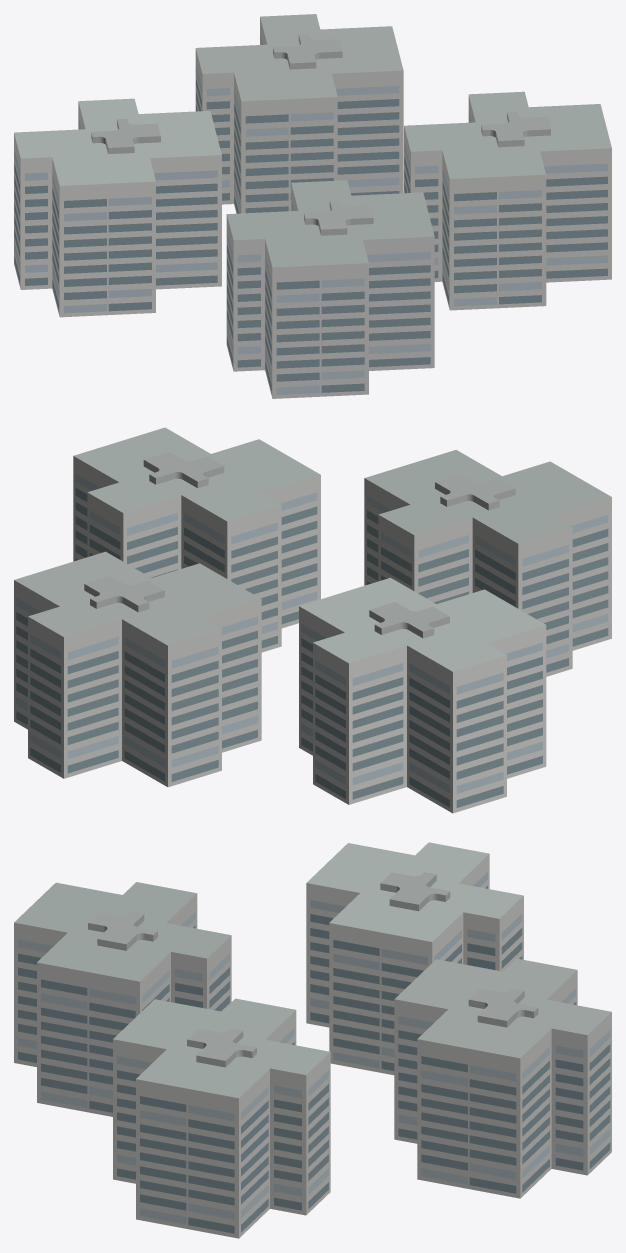
File: apt-a13972602.glb
3 renders of one model, top to bottom at view 1: azimuth 30°, elevation 25°; view 2: azimuth 150°, elevation 25°; view 3: azimuth 270°, elevation 25°, orthographic. The views are drawn at different scales.
Parts seen in each view (by area): view 1: apt-a13972602; view 2: apt-a13972602; view 3: apt-a13972602.
Boxes of the visible parts, x1,y1,x2,y2 form: apt-a13972602: (14,14,611,398); apt-a13972602: (14,427,611,813); apt-a13972602: (14,842,611,1238).
Bounding box in the file's own units: 112 × 30 × 111.
